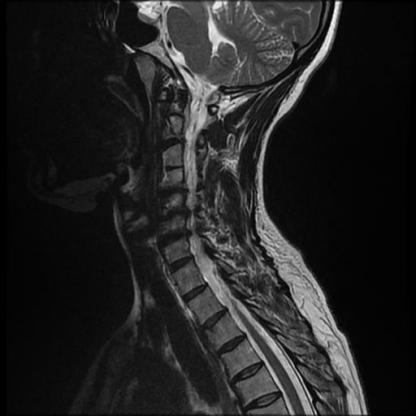Disc Protrusionrotation: (153, 206, 193, 229), (158, 183, 188, 203), (160, 163, 184, 172)
Osteophytesrotation: (152, 207, 194, 230), (158, 183, 188, 203), (160, 163, 184, 172)
